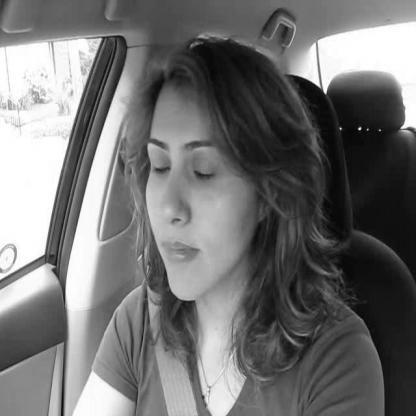seatbelt: (106, 35, 292, 416)
